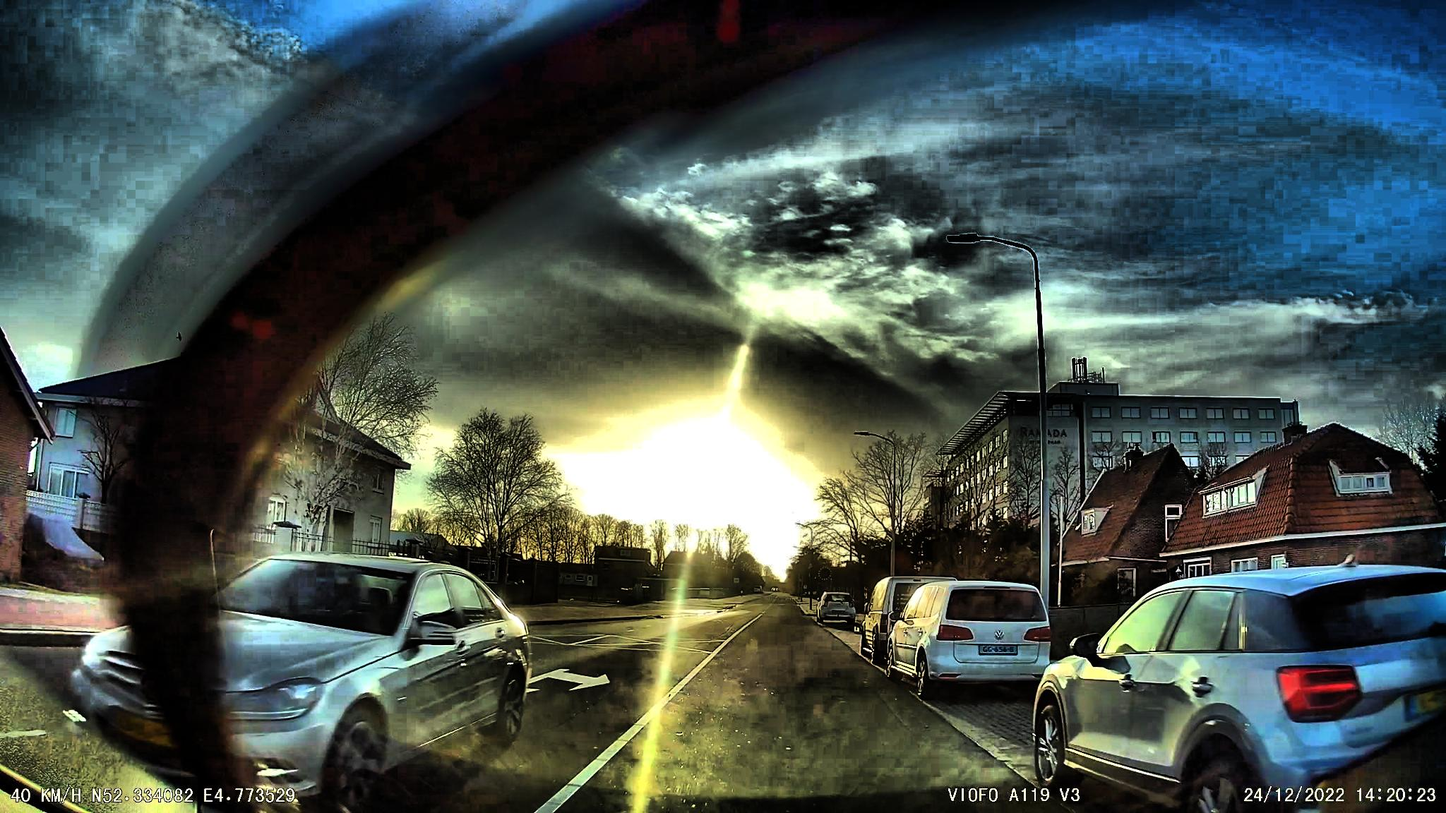Roads: (371, 604, 1055, 813)
